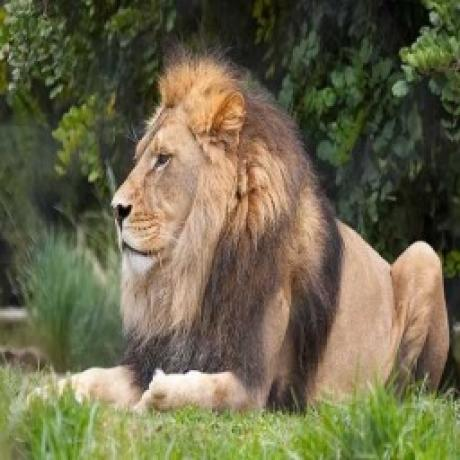Lion: (56, 48, 452, 413)
